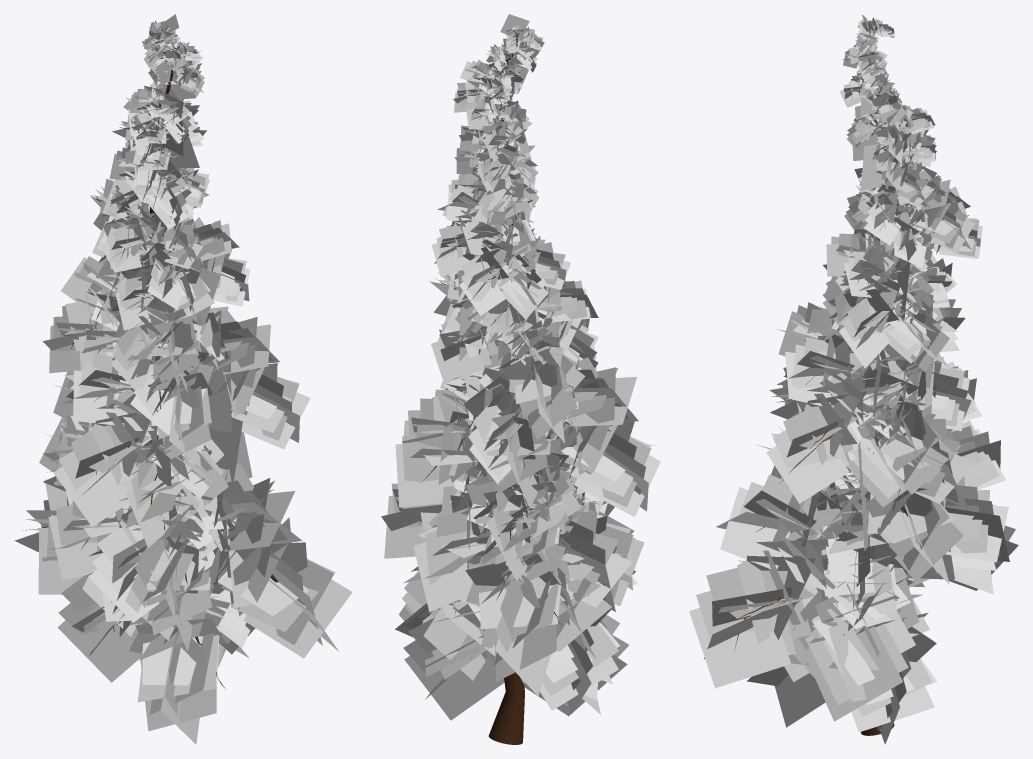
Rendered from koks05_test.fbx.
3 views of the same model, side by side, from view 1: azimuth 30°, elevation 25°; view 2: azimuth 150°, elevation 25°; view 3: azimuth 270°, elevation 25° (orthographic). The views are drawn at different scales.
Parts seen in each view (by area): view 1: Koks5.001; view 2: Koks5.001; view 3: Koks5.001.
Part boxes in pixels (x1,y1,x2,y2): Koks5.001: [14, 14, 352, 744]; Koks5.001: [381, 14, 660, 744]; Koks5.001: [689, 14, 1018, 744].
Size of the model in its own units: 16.84 by 46.59 by 19.38.
